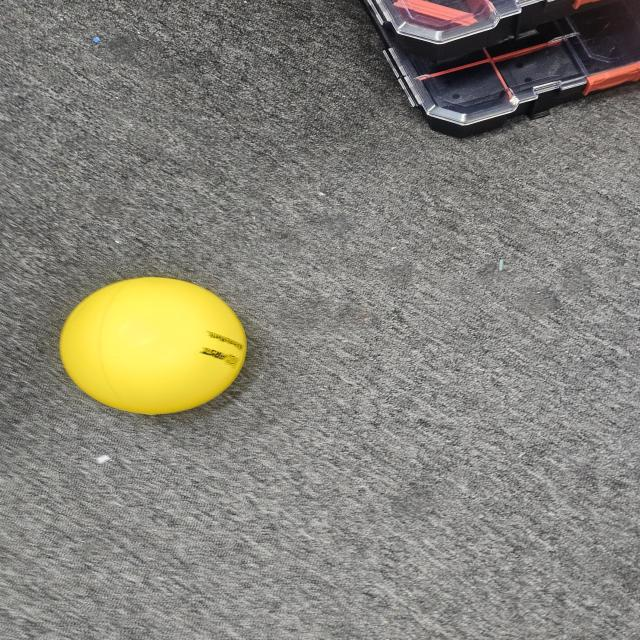Fuel: (50, 272, 253, 424)
